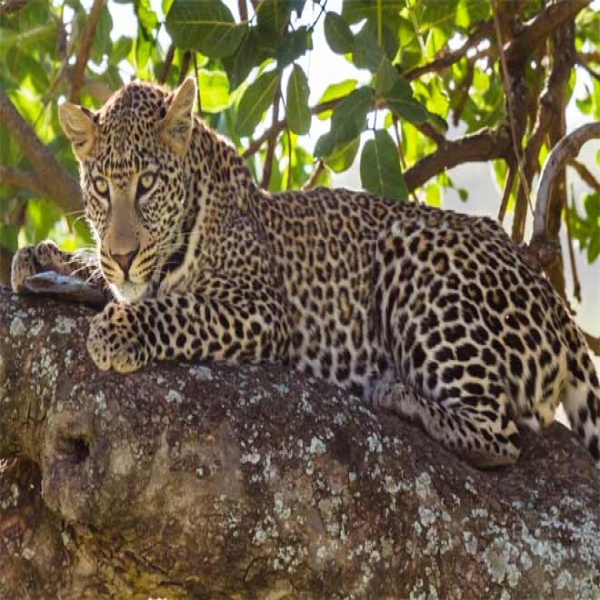Leopard: (12, 74, 600, 474)
